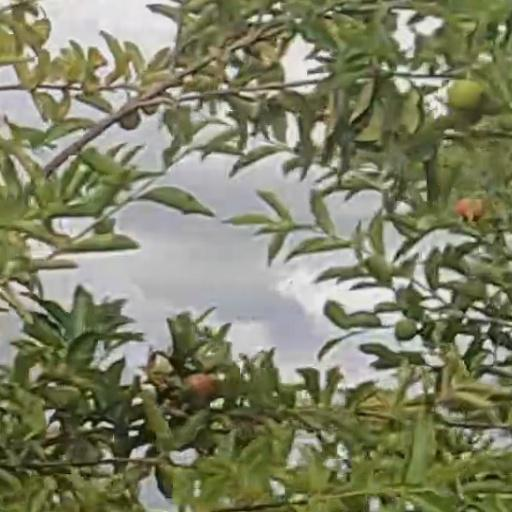acerola_verde: (447, 80, 485, 110)
acerola_vermelha: (185, 375, 216, 398), (457, 202, 483, 218)
